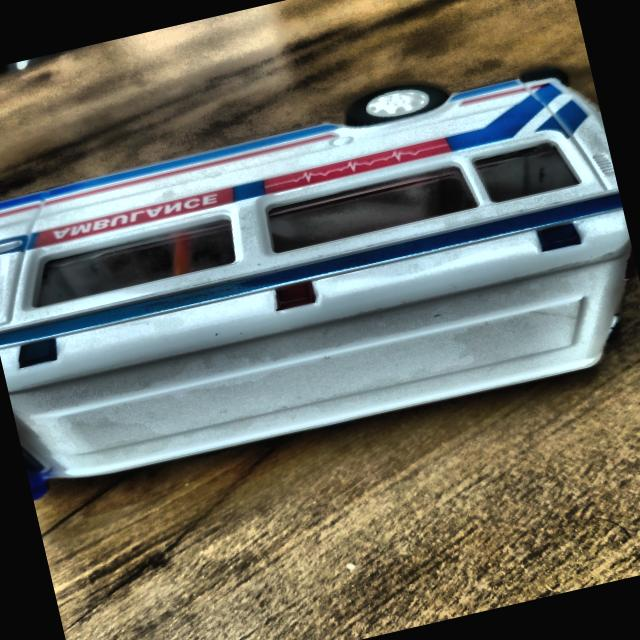Ambulance: (0, 44, 640, 512)
